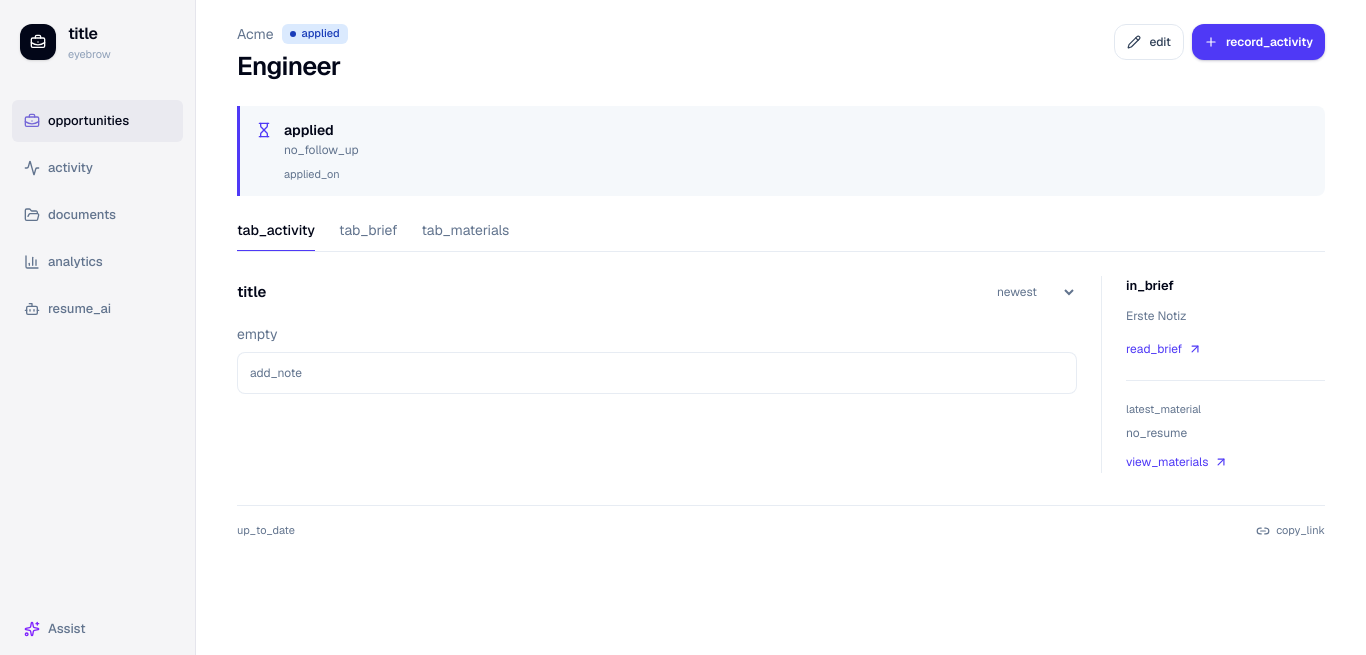
Test case: ApplicationDetail › renders the application values with a large auto-growing notes field
Expected: the text "Erste Notiz" is shown, [1126,308,1186,324]
Click the button "edit".
click(1149, 42)  # box [1114,24,1184,60]
(page scrolled)
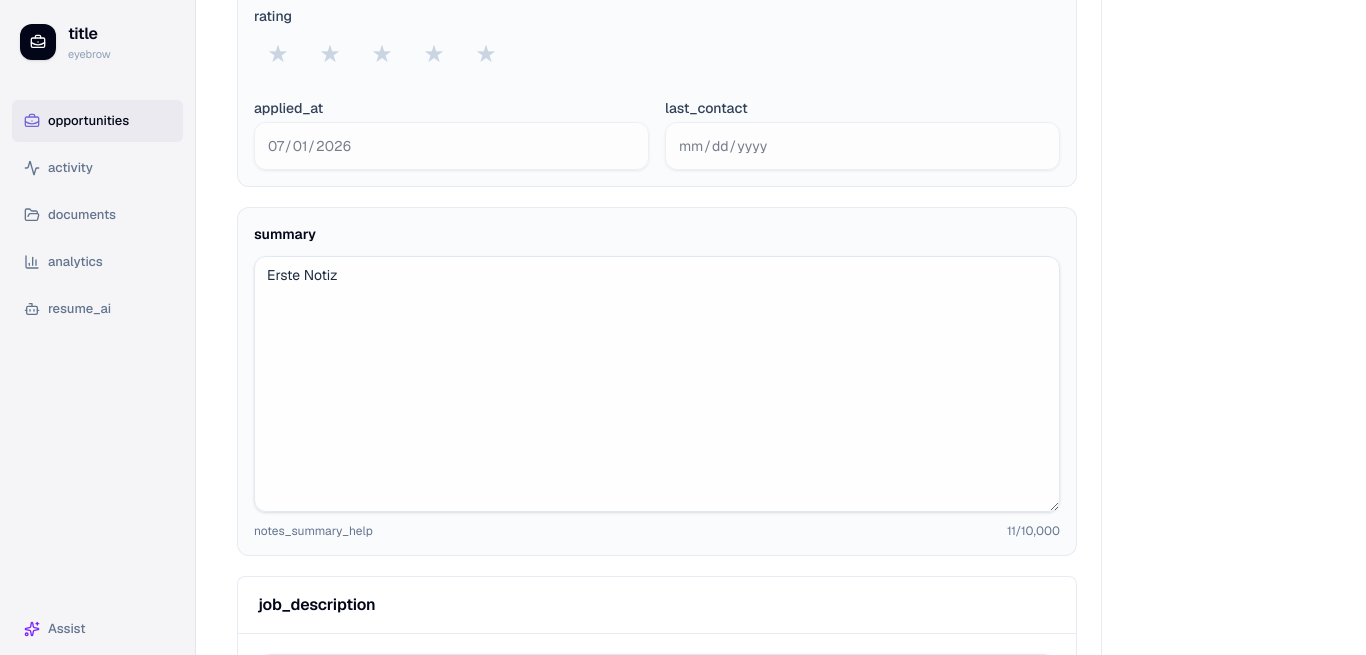
Expected: the text box with placeholder "notes_placeholder" holds "Erste Notiz", [254,256,1060,512]
